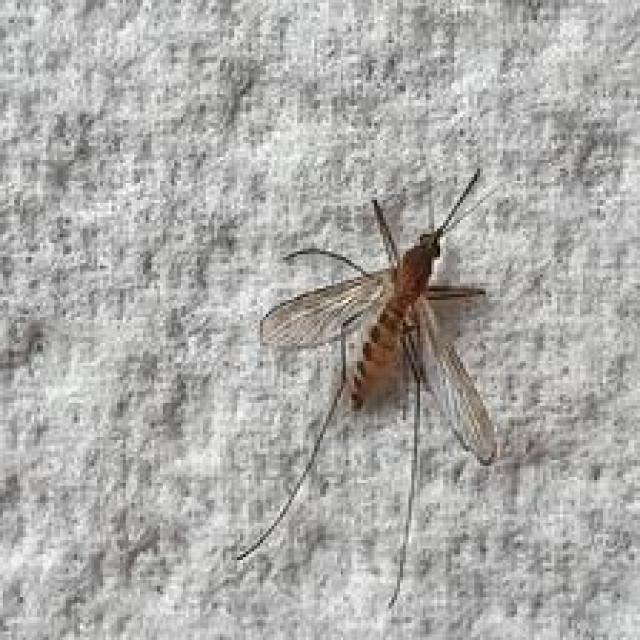Culex: (233, 166, 501, 608)
